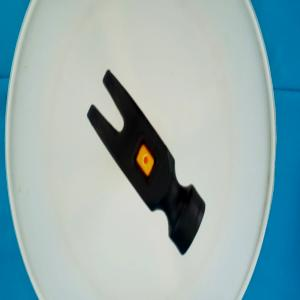martelo: (86, 68, 206, 256)
